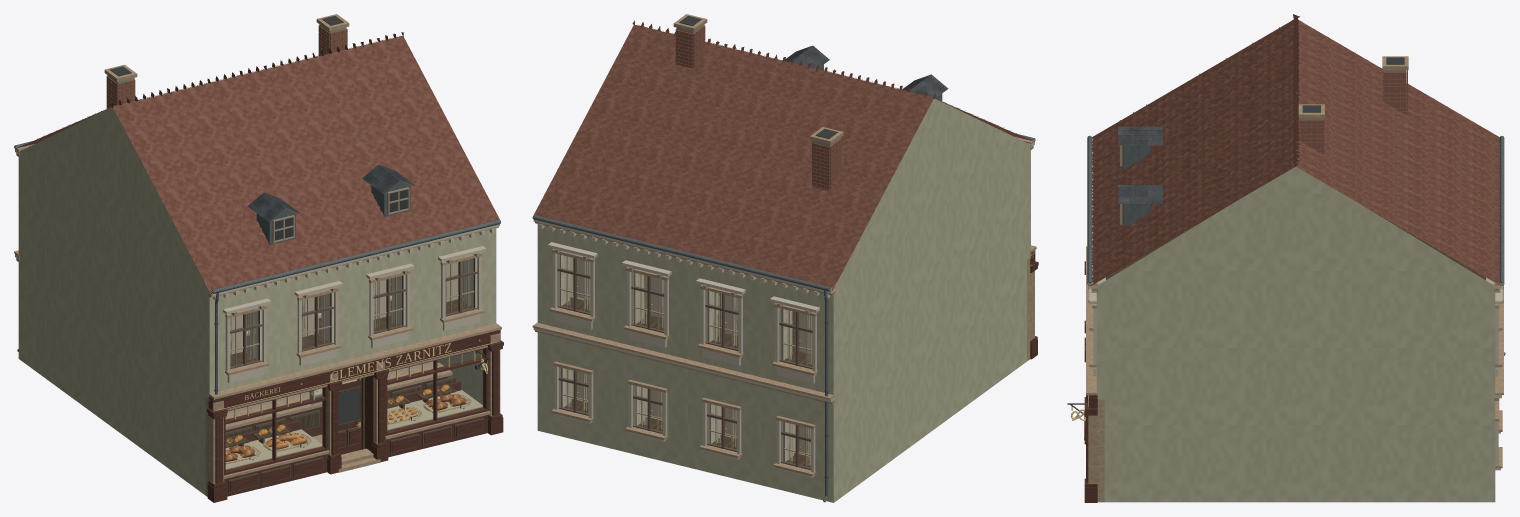
Rendered from zarn32.glb.
3 renders of one model, left to right at view 1: azimuth 30°, elevation 25°; view 2: azimuth 150°, elevation 25°; view 3: azimuth 270°, elevation 25°, orthographic. The views are drawn at different scales.
Visible parts, largest first — view 1: Wohnhaus_Putz, Ziegeldach_Ton, Ladenbau_Lack, Ladenbau_Werkstein, Wohnhaus_Gesims, Wohnhaus_Werkstein, Wohnhaus_Kalk, Ladenbau_Vorhang, Wohnhaus_Rahmen, Wohnhaus_Wand innen, Backsteinkamin_Blech, Verkaufsraum_Werkstein (+19 smaller); view 2: Wohnhaus_Putz, Ziegeldach_Ton, Wohnhaus_Gesims, Wohnhaus_Werkstein, Wohnhaus_Rahmen, Wohnhaus_Kalk, Wohnhaus_Wand innen, Wohnhaus_Vorhang, Backsteinkamin_Blech, Backsteinkamin_Ziegel, Wohnhaus_Holz, Wohnhaus_Sprosse (+3 smaller); view 3: Wohnhaus_Putz, Ziegeldach_Ton, Ladenbau_Werkstein, Ziegeldach_Dach, Backsteinkamin_Ziegel, Backsteinkamin_Blech, Wohnhaus_Werkstein, Wohnhaus_Gesims, Ziegeldach_Blech, Ladenbau_Lack, Wohnhaus_Holz, Backsteinkamin_Werkstein.
Part boxes in pixels (x1=…): Wohnhaus_Putz: x1=18, y1=36, x2=496, y2=495; Ziegeldach_Ton: x1=15, y1=32, x2=500, y2=292; Ladenbau_Lack: x1=207, y1=330, x2=503, y2=502; Ladenbau_Werkstein: x1=205, y1=323, x2=501, y2=496; Wohnhaus_Gesims: x1=15, y1=149, x2=499, y2=399; Wohnhaus_Werkstein: x1=14, y1=144, x2=500, y2=454; Wohnhaus_Kalk: x1=230, y1=257, x2=477, y2=367; Ladenbau_Vorhang: x1=225, y1=390, x2=482, y2=469; Wohnhaus_Rahmen: x1=230, y1=258, x2=477, y2=369; Wohnhaus_Wand innen: x1=230, y1=261, x2=461, y2=354; Backsteinkamin_Blech: x1=14, y1=141, x2=500, y2=394; Verkaufsraum_Werkstein: x1=225, y1=362, x2=452, y2=430; Wohnhaus_Putz: x1=537, y1=32, x2=1030, y2=502; Ziegeldach_Ton: x1=532, y1=20, x2=1034, y2=290; Wohnhaus_Gesims: x1=533, y1=142, x2=1034, y2=477; Wohnhaus_Werkstein: x1=532, y1=136, x2=1035, y2=476; Wohnhaus_Rahmen: x1=557, y1=254, x2=812, y2=469; Wohnhaus_Kalk: x1=557, y1=254, x2=812, y2=468; Wohnhaus_Wand innen: x1=573, y1=258, x2=812, y2=453; Wohnhaus_Vorhang: x1=563, y1=255, x2=811, y2=465; Backsteinkamin_Blech: x1=533, y1=133, x2=1035, y2=502; Backsteinkamin_Ziegel: x1=675, y1=25, x2=841, y2=190; Wohnhaus_Holz: x1=562, y1=270, x2=843, y2=467; Wohnhaus_Sprosse: x1=560, y1=256, x2=812, y2=466; Wohnhaus_Putz: x1=1096, y1=166, x2=1495, y2=502; Ziegeldach_Ton: x1=1090, y1=14, x2=1501, y2=285; Ladenbau_Werkstein: x1=1084, y1=246, x2=1104, y2=502; Ziegeldach_Dach: x1=1118, y1=126, x2=1162, y2=203; Backsteinkamin_Ziegel: x1=1299, y1=70, x2=1407, y2=154; Backsteinkamin_Blech: x1=1087, y1=135, x2=1505, y2=355; Wohnhaus_Werkstein: x1=1088, y1=138, x2=1503, y2=468; Wohnhaus_Gesims: x1=1089, y1=285, x2=1502, y2=470; Ziegeldach_Blech: x1=1123, y1=145, x2=1150, y2=228; Ladenbau_Lack: x1=1084, y1=261, x2=1097, y2=502; Wohnhaus_Holz: x1=1106, y1=203, x2=1485, y2=279; Backsteinkamin_Werkstein: x1=1298, y1=56, x2=1408, y2=117.
Size of the model in its own units: 11.97 by 13.66 by 14.96.
34 materials, 17 textured.
